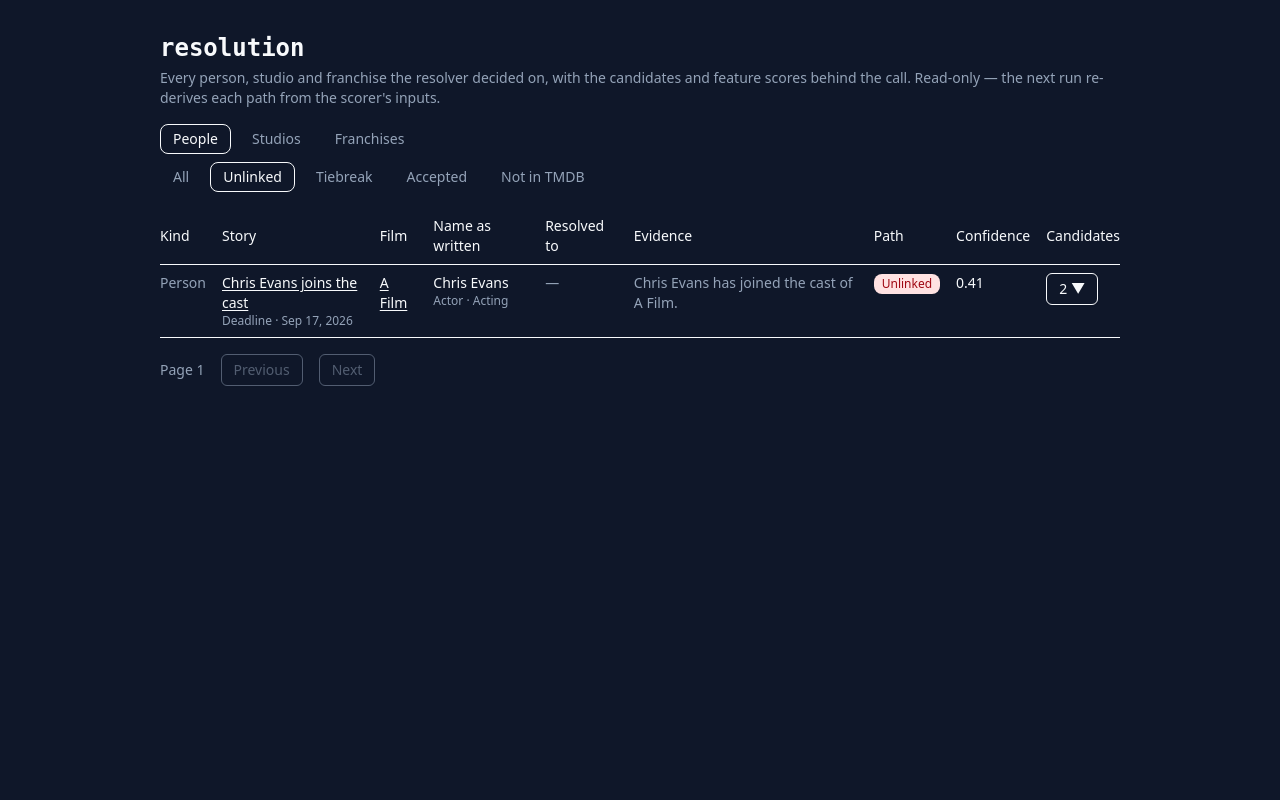
Test case: AdminResolution › expands a row to show the candidates and their feature scores
Expected: the text "Chris Evans (II)" is not shown
What coordinates should you click on to do the following:
click the button named "Show candidates for Chris Evans"
I would click on:
 (1072, 289)
Its box is [1046,273,1098,305].
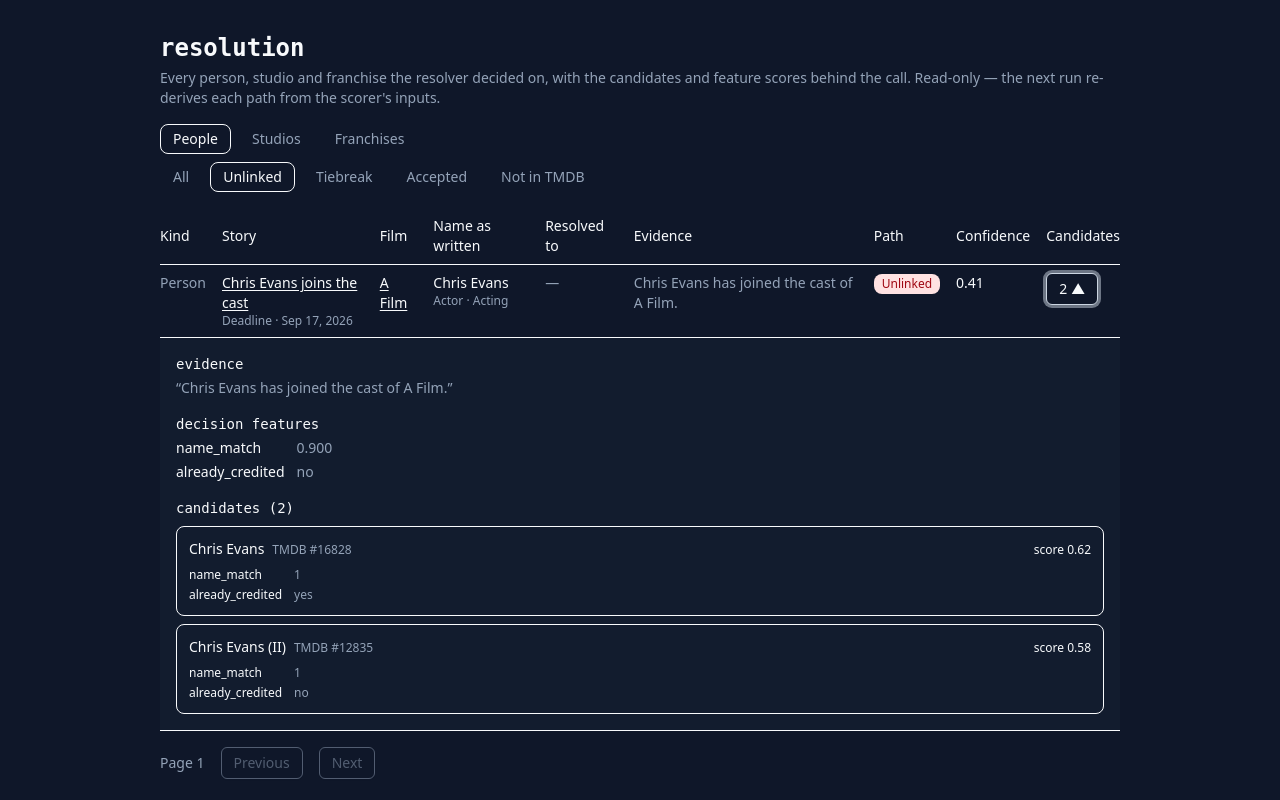
Result: the text "Chris Evans (II)" is shown at [189,637,286,657]
Result: the text "TMDB #16828" is shown at [272,542,352,558]
Result: the text "score 0.62" is shown at [1034,542,1091,558]
What coordinates should you click on to do the following:
click the button named "Hide candidates for Chris Evans"
I would click on:
 (1072, 289)
Its box is [1046,273,1098,305].
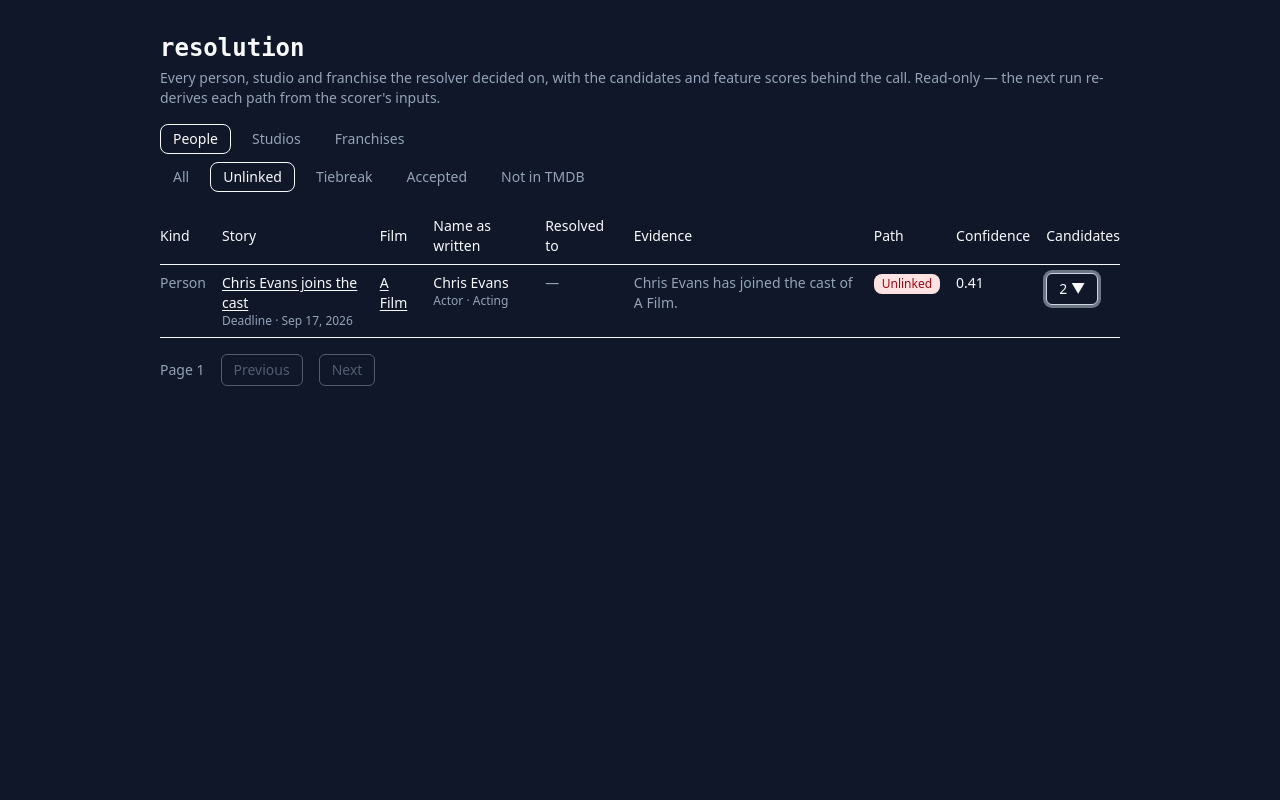
Result: the text "Chris Evans (II)" is gone
